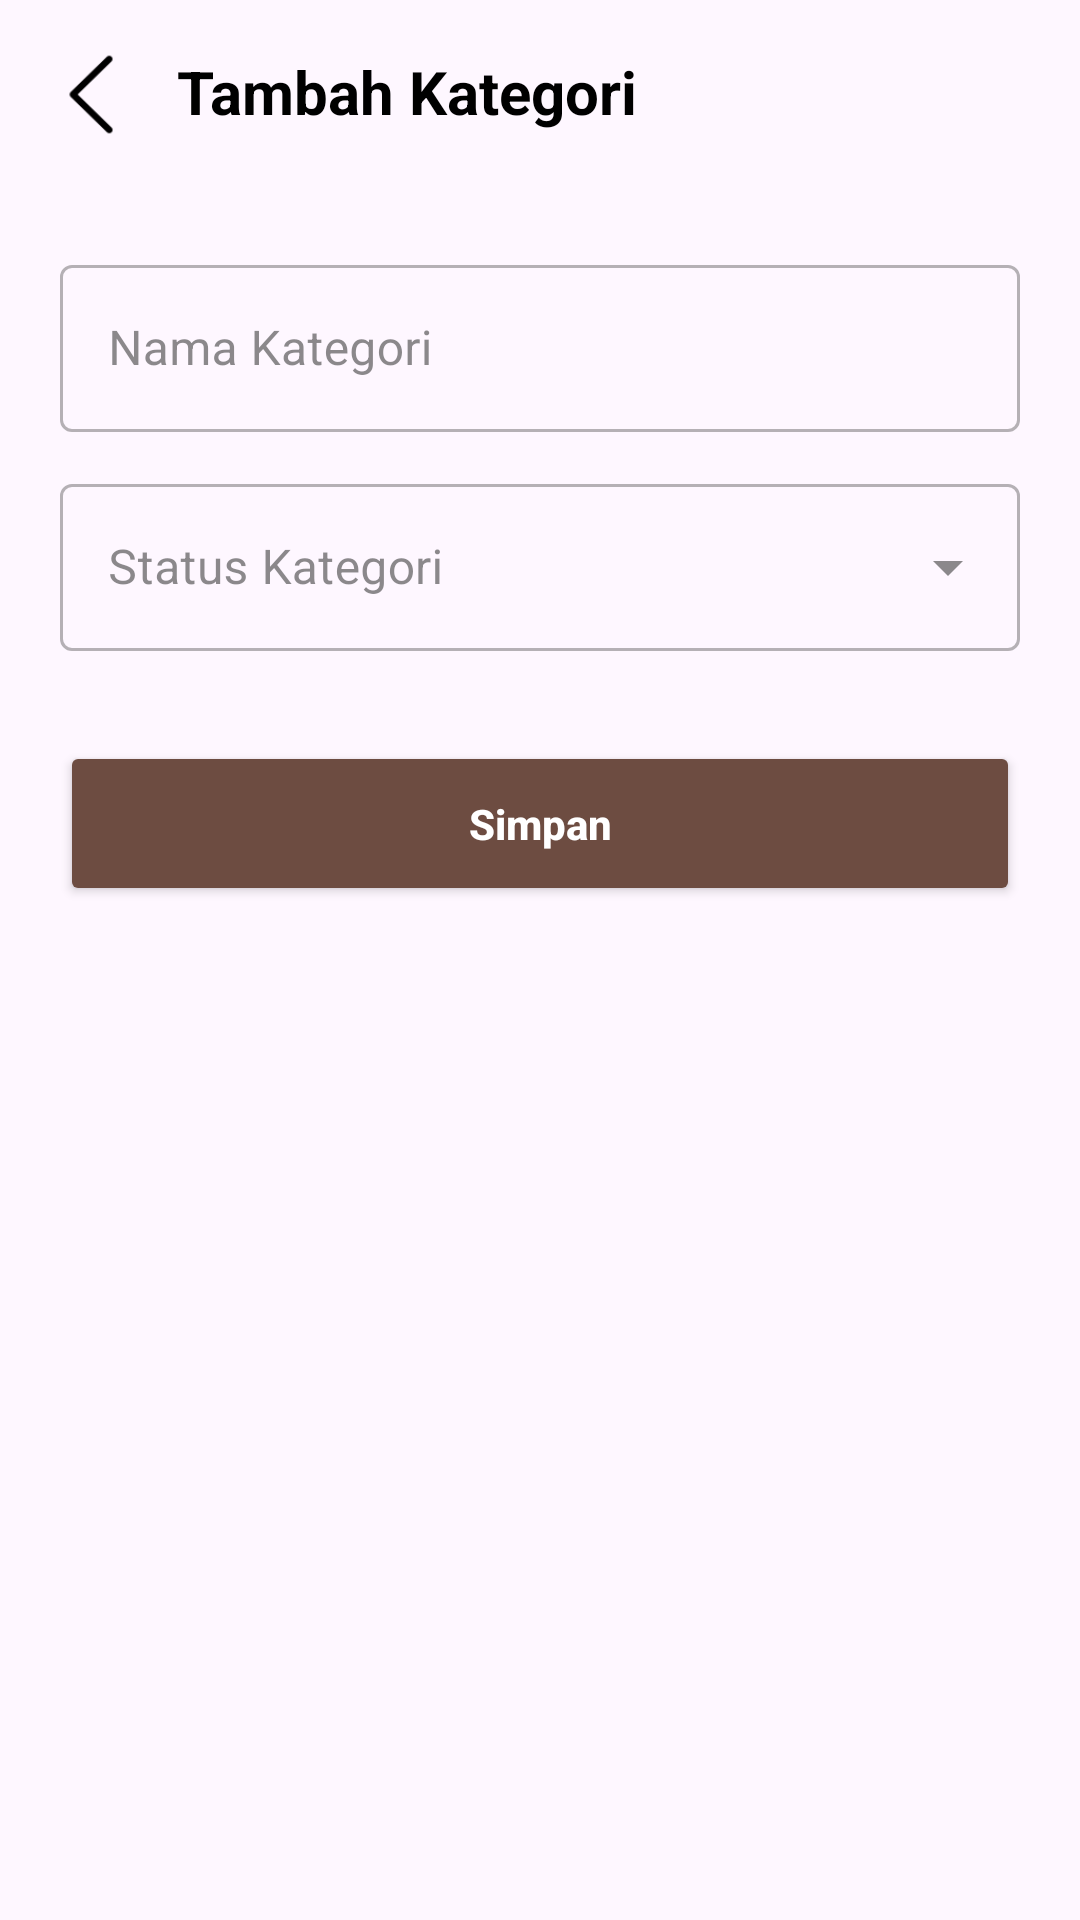

Where icons sit on this 1080w x 1920h app screen, as [x1,y1,x2,y2]:
Kembali: [69,55,113,134]
